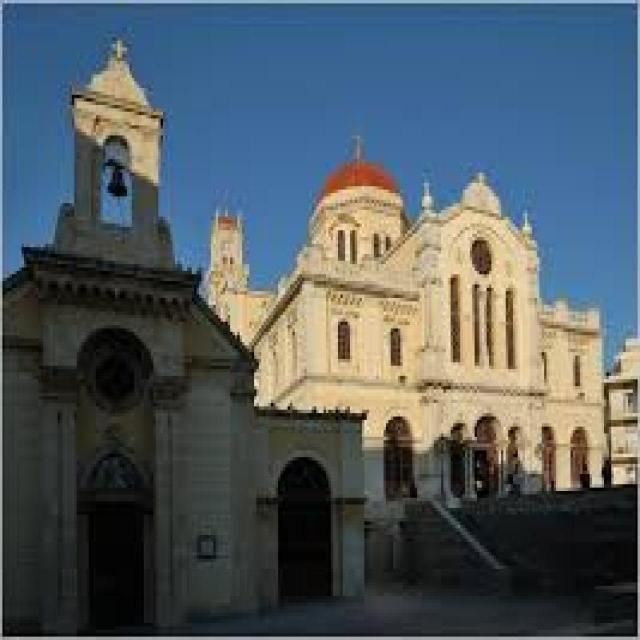Agios Minas: (3, 34, 640, 612)
